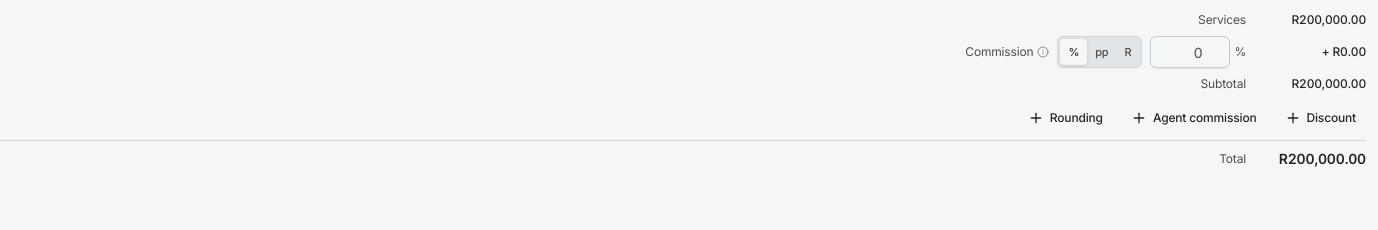
Test: QuoteAdjustmentsLedger › previews a new per-person commission against the booking headcount, not 1
Click the radio button with aria-label "Per person".
click(1102, 52)  # box [1087,39,1116,65]
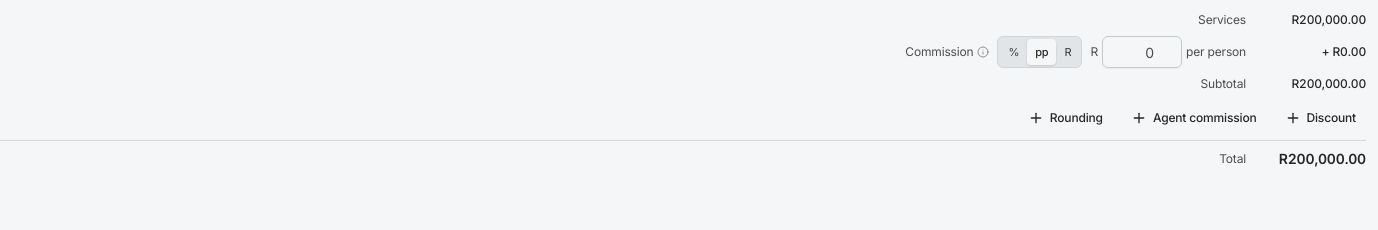
Type "5000" into the number field with placeholder "0".
click(1142, 52); type("5000")  # box [1102,36,1182,68]
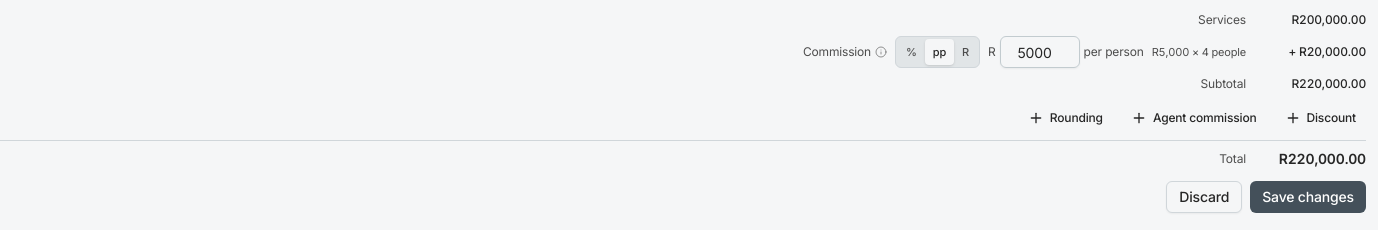
Expected: the text "per person" is shown, [1084,44,1144,60]
Expected: the text "R5,000 × 4 people" is shown, [1152,43,1246,61]
